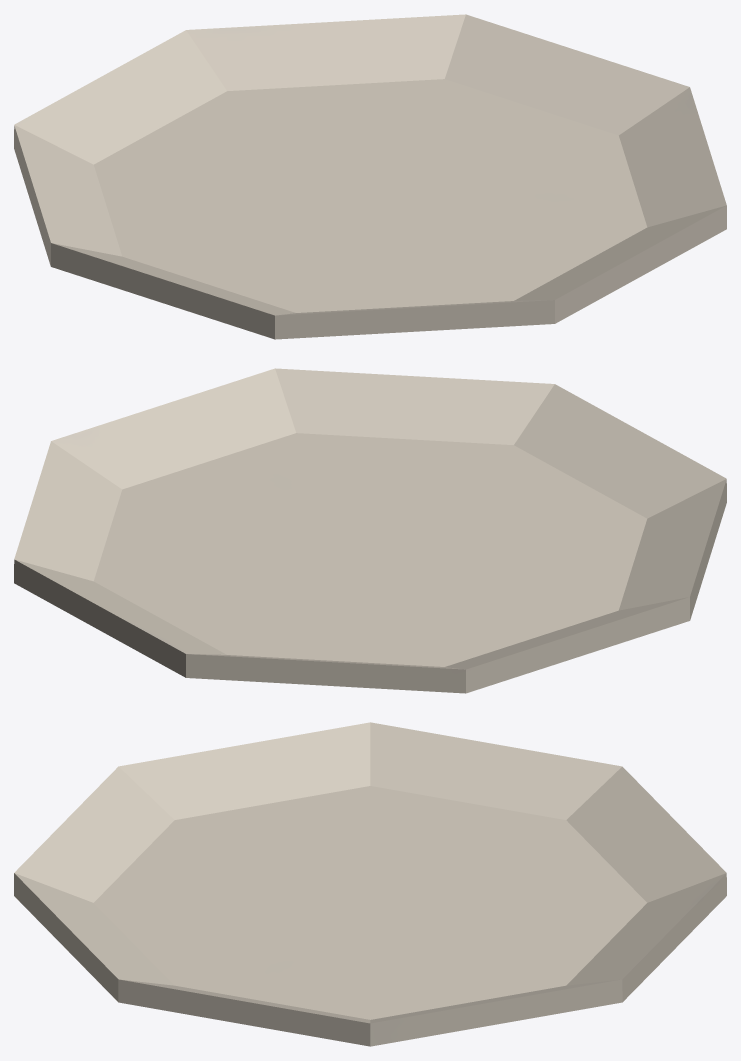
The model's file is Plate.fbx.
3 renders of one model, top to bottom at view 1: azimuth 30°, elevation 25°; view 2: azimuth 150°, elevation 25°; view 3: azimuth 270°, elevation 25°, orthographic. The views are drawn at different scales.
Visible parts, largest first — view 1: Plate; view 2: Plate; view 3: Plate.
Part boxes in pixels (x1,y1,x2,y2): Plate: (14,14,726,339); Plate: (14,368,726,693); Plate: (14,722,726,1046).
Bounding box in the file's own units: 28.02 × 2.3 × 28.01.
1 material, 1 textured.
